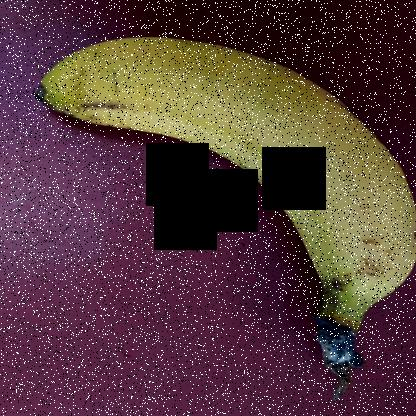freshripe: (48, 29, 415, 323)
